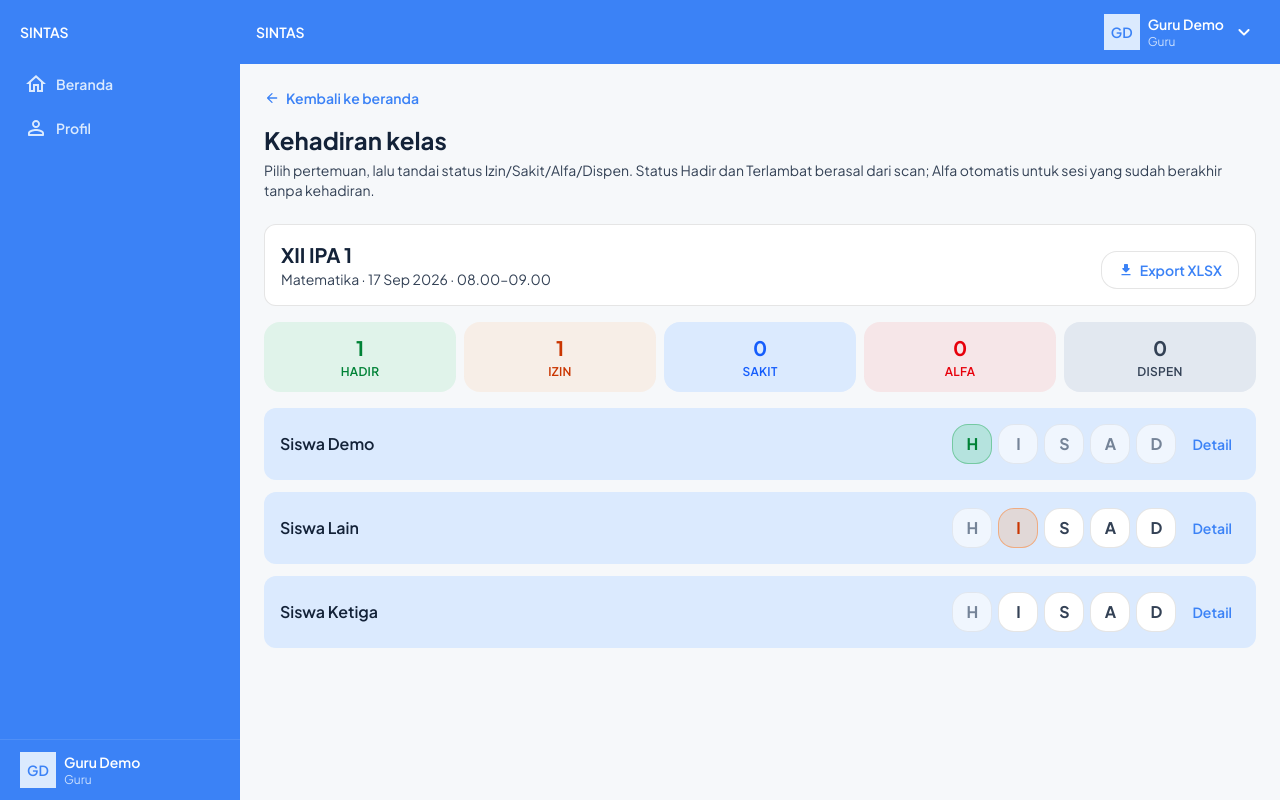
Test: halaman kehadiran kelas guru › mengunduh export XLSX dengan scope kelas
Expected: the text "Siswa Demo" is shown, [280, 433, 374, 454]
What coordinates should you click on to do the following:
click the button "Export XLSX"
I would click on:
 (1170, 270)
Its box is [1101, 251, 1239, 289].
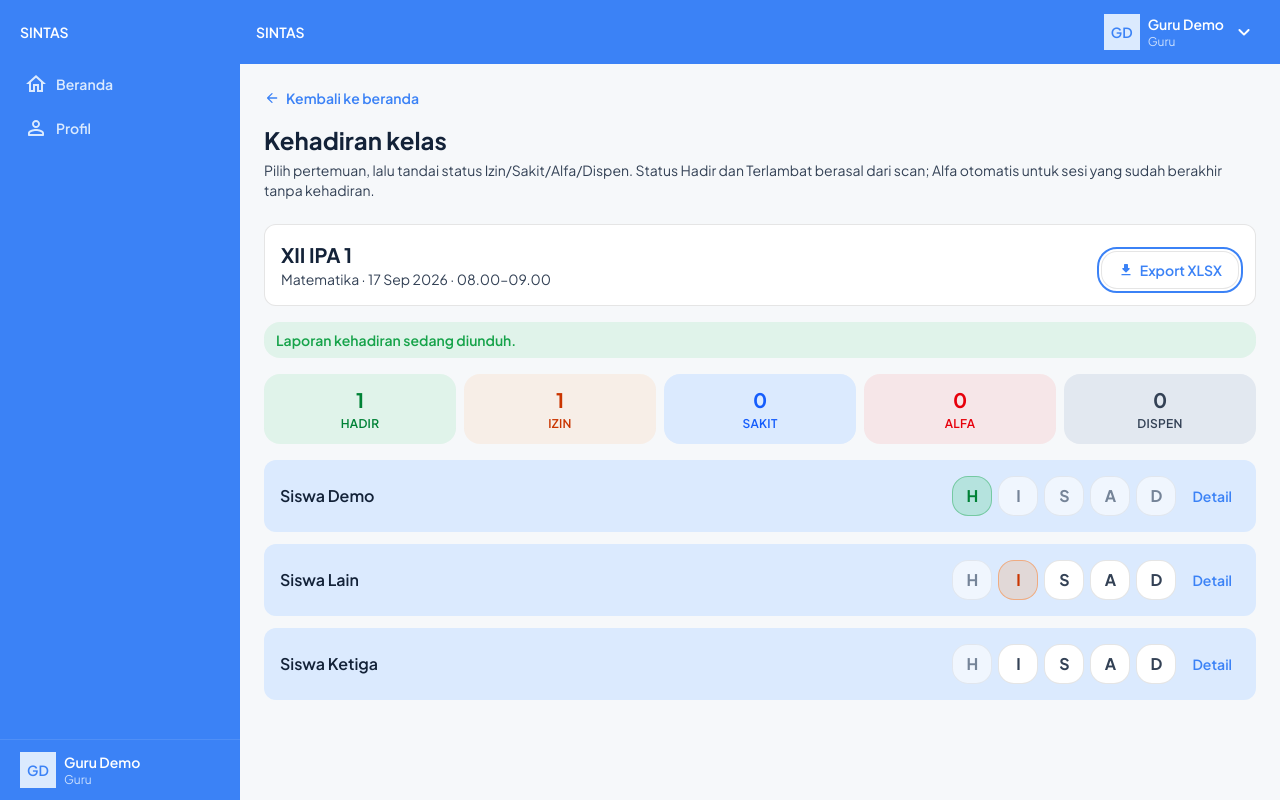
Now the text "Laporan kehadiran sedang diunduh." is shown, box [264, 322, 1256, 358]
